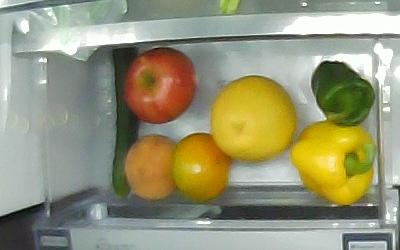apple: (124, 48, 197, 124)
cucumber: (111, 48, 138, 200)
grapefruit: (211, 76, 297, 164)
paprika: (291, 120, 377, 205), (311, 61, 375, 128)
peach: (125, 135, 177, 200)
persimmon: (173, 133, 229, 200)
